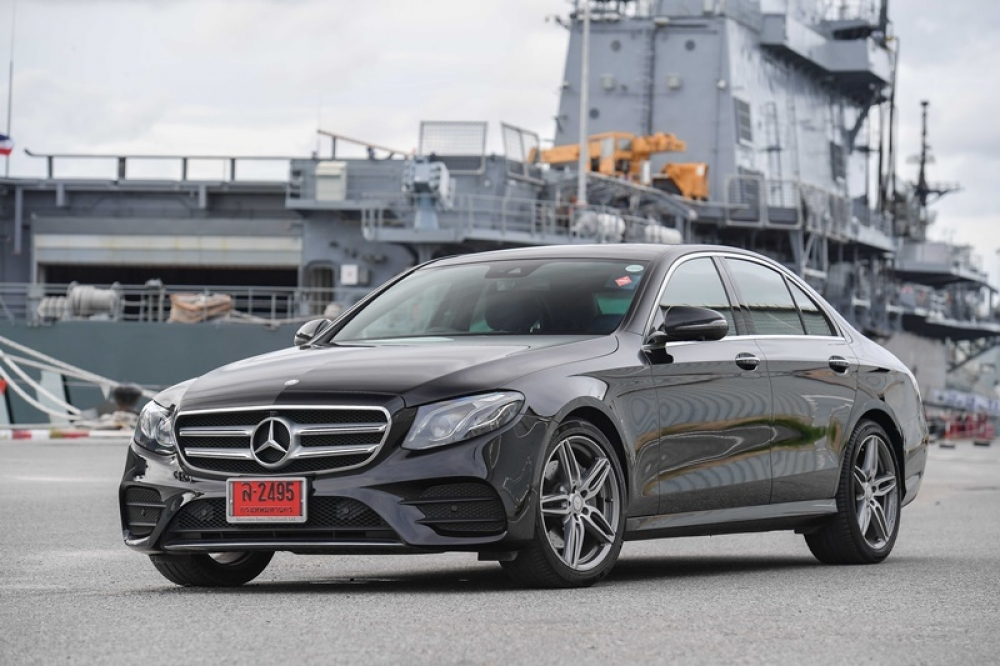sedan: (118, 239, 931, 588)
